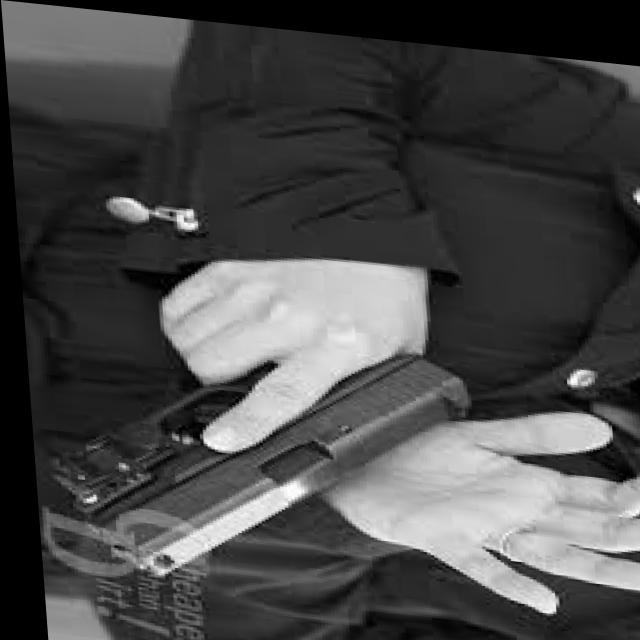handgun: (48, 284, 487, 598)
